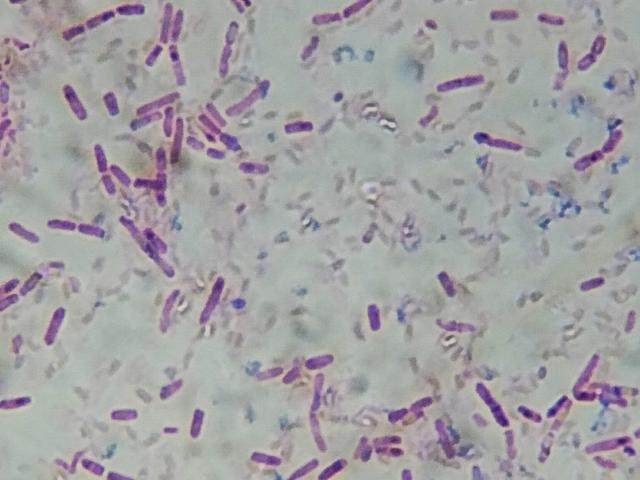E. coli: (153, 285, 186, 336), (233, 78, 281, 111), (473, 377, 504, 426), (477, 126, 524, 157), (436, 69, 489, 96), (390, 391, 433, 424), (201, 276, 229, 323), (40, 306, 68, 350), (311, 374, 326, 456), (60, 83, 89, 124), (165, 44, 191, 85), (145, 249, 176, 282), (436, 415, 456, 464), (519, 397, 543, 437), (6, 215, 39, 244), (585, 432, 631, 452), (578, 386, 626, 405), (362, 301, 387, 335), (106, 403, 141, 427), (550, 36, 574, 71), (239, 159, 275, 182), (0, 391, 32, 416), (187, 406, 210, 439), (549, 391, 572, 424), (79, 217, 106, 245), (220, 12, 245, 42), (123, 215, 144, 250), (61, 25, 90, 49), (298, 33, 321, 63), (433, 265, 453, 299), (144, 222, 169, 249), (575, 271, 602, 296), (537, 429, 556, 464), (418, 104, 441, 132), (254, 358, 278, 384), (593, 379, 640, 392), (283, 116, 312, 137), (607, 128, 628, 157), (104, 88, 123, 120), (48, 212, 78, 232), (172, 120, 188, 157), (115, 3, 144, 23), (22, 267, 42, 296), (489, 7, 521, 25), (290, 457, 315, 480), (159, 376, 181, 402), (281, 365, 308, 386), (0, 289, 23, 313), (355, 434, 373, 464), (575, 146, 602, 166), (87, 7, 112, 28), (143, 42, 163, 68), (302, 350, 329, 369), (577, 354, 600, 376), (248, 448, 279, 464), (312, 7, 338, 26), (343, 0, 369, 19), (224, 131, 246, 153), (206, 102, 229, 122), (594, 455, 621, 472), (111, 163, 130, 187), (143, 94, 188, 104), (142, 176, 171, 191), (153, 171, 166, 204), (372, 432, 400, 447), (130, 112, 156, 128), (91, 145, 108, 169), (222, 44, 234, 78), (81, 455, 97, 480), (155, 144, 171, 169), (537, 9, 562, 25), (176, 5, 187, 41), (377, 446, 399, 463), (593, 34, 610, 56), (162, 1, 172, 38), (324, 460, 342, 480), (200, 115, 218, 134), (210, 142, 223, 167), (0, 275, 18, 293), (100, 176, 117, 195), (189, 135, 204, 154), (579, 54, 594, 71), (163, 106, 172, 133)
